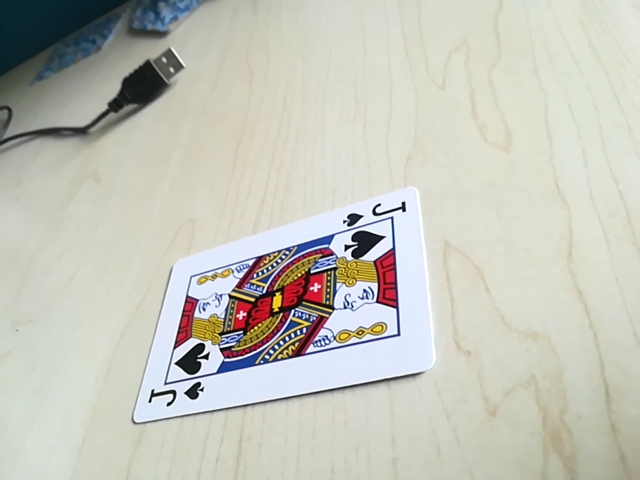ht j: (143, 375, 212, 415), (340, 197, 410, 227)
